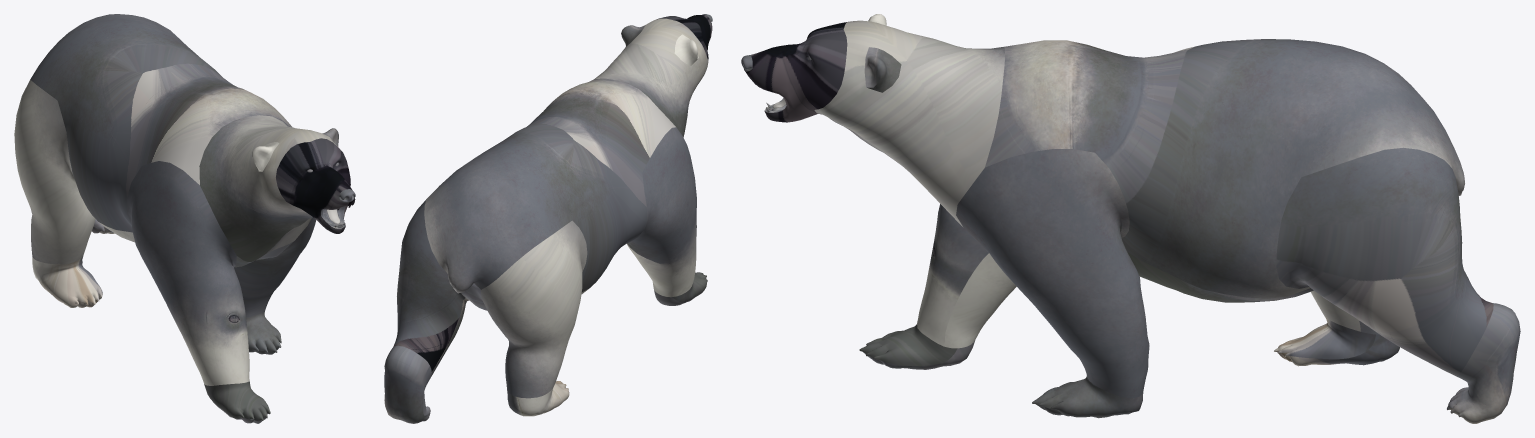
Rendered from OsoPolar.obj.
3 renders of one model, left to right at view 1: azimuth 30°, elevation 25°; view 2: azimuth 150°, elevation 25°; view 3: azimuth 270°, elevation 25°, orthographic. The views are drawn at different scales.
Visible parts, largest first — view 1: Object_0; view 2: Object_0; view 3: Object_0.
Part boxes in pixels (x1,y1,x2,y2): Object_0: [14, 14, 355, 423]; Object_0: [384, 14, 712, 423]; Object_0: [741, 14, 1520, 423].
Bounding box in the file's own units: 5.17 × 8.14 × 15.91.
